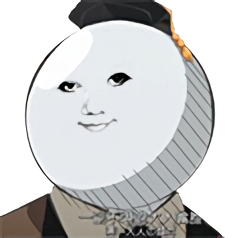dragon: (56, 72, 133, 134)
